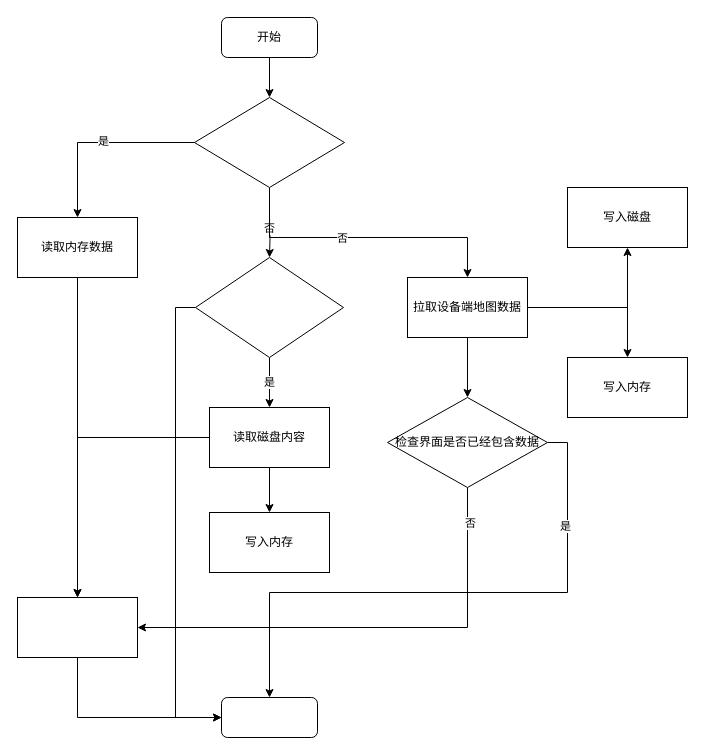
This 705x755 diagram has some shape labels left out. Each missing label, with the box of its shape:
检查内存是否包含数据: (194, 96, 344, 188)
检查磁盘是否包含数据: (194, 256, 344, 358)
渲染视图: (16, 596, 138, 658)
结束: (220, 696, 318, 738)
